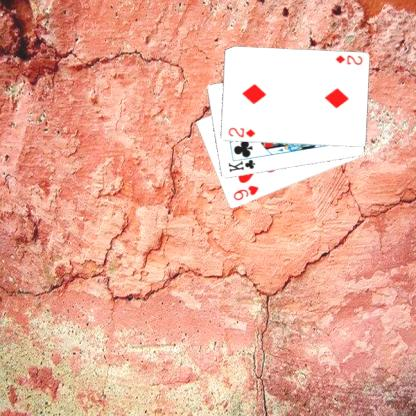2D: (332, 52, 364, 66), (225, 125, 256, 139)
9H: (230, 183, 260, 202)
KC: (225, 153, 258, 174)
